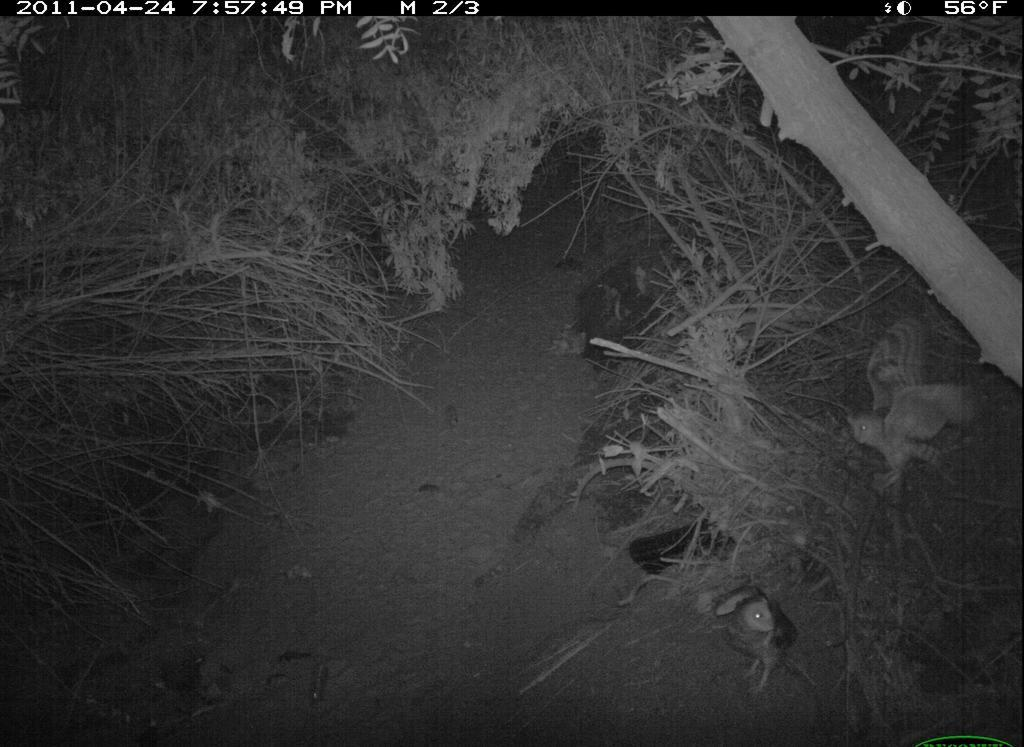bird: (835, 305, 991, 496), (699, 562, 818, 705)
